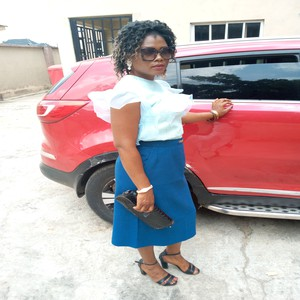Fulokoja_female_student: (111, 20, 187, 275)
